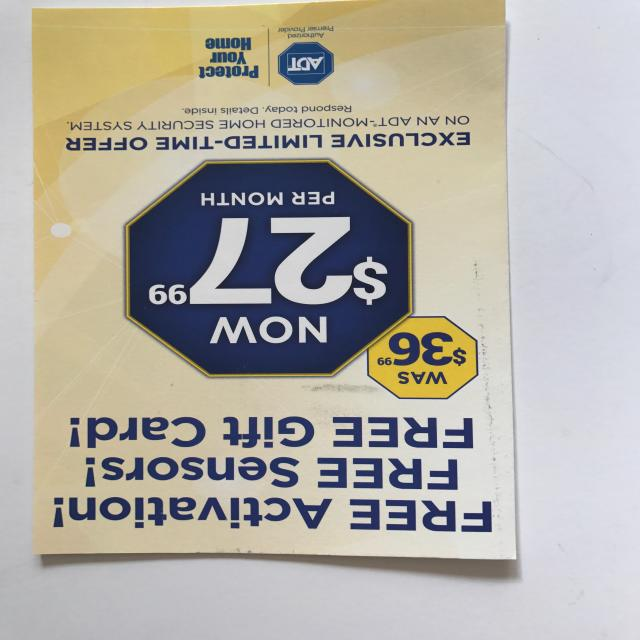paper: (16, 0, 547, 575)
